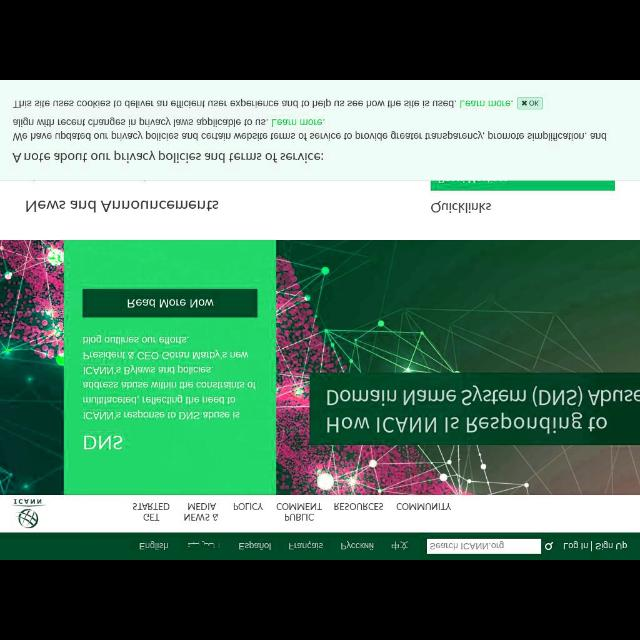backgroundimage: (1, 240, 639, 494)
icon: (546, 542, 554, 550), (521, 100, 527, 106)
image: (13, 496, 47, 530)
input: (427, 539, 541, 553)
multitab: (3, 495, 639, 533)
text: (81, 336, 256, 422), (327, 386, 639, 432), (12, 120, 608, 140), (14, 96, 512, 110), (13, 150, 325, 162), (25, 198, 218, 212), (128, 296, 212, 310), (432, 199, 492, 213), (276, 502, 322, 520), (132, 501, 170, 521), (430, 541, 504, 551), (184, 502, 220, 522), (84, 434, 122, 450), (398, 502, 450, 510), (186, 541, 220, 551), (138, 540, 170, 550), (333, 503, 382, 509), (288, 542, 324, 550), (238, 542, 272, 550), (340, 542, 374, 550), (233, 502, 263, 511), (596, 541, 626, 549), (564, 541, 586, 551), (392, 540, 408, 550), (529, 100, 539, 106)
textbutton: (82, 291, 258, 317), (518, 97, 544, 109)
toolbar: (1, 533, 639, 559)
